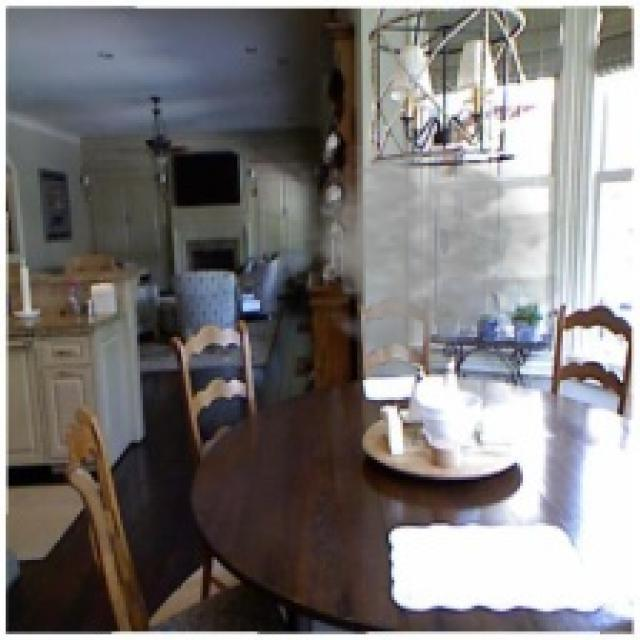Smoke: (300, 146, 569, 368)
